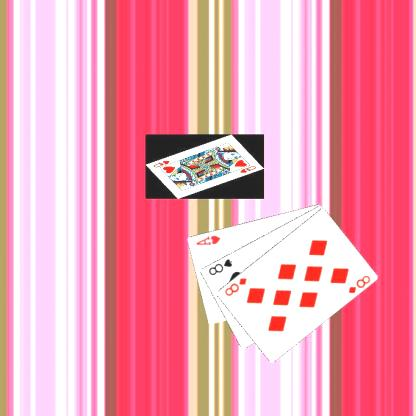8D: (347, 272, 373, 295), (223, 275, 250, 297)
8S: (207, 256, 235, 277)
AH: (195, 232, 223, 247)
